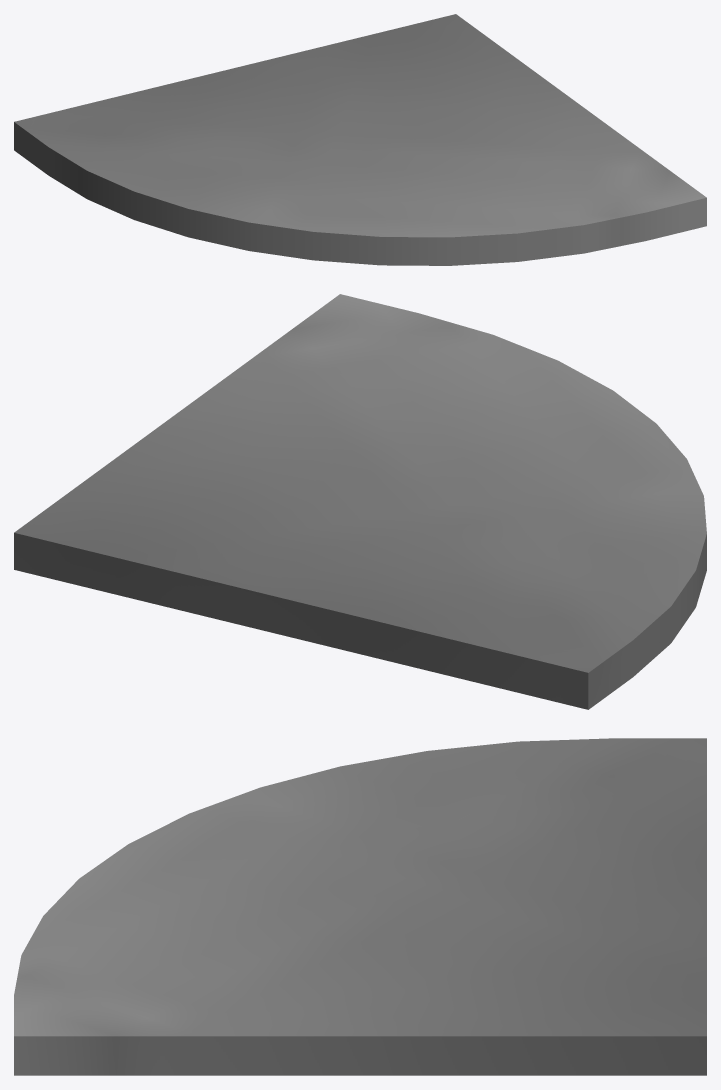
Rendered from sidewalk_2.fbx.
The picture shows the model from 3 angles, top to bottom: view 1: azimuth 30°, elevation 25°; view 2: azimuth 150°, elevation 25°; view 3: azimuth 270°, elevation 25°; orthographic projection. The views are drawn at different scales.
Parts seen in each view (by area): view 1: sidewalk_2; view 2: sidewalk_2; view 3: sidewalk_2.
Part boxes in pixels (x1=…): sidewalk_2: x1=14, y1=14, x2=706, y2=265; sidewalk_2: x1=14, y1=294, x2=706, y2=709; sidewalk_2: x1=14, y1=738, x2=706, y2=1075.
Bounding box in the file's own units: 158 × 9.73 × 155.
Materials: 1 (1 with a texture image).
